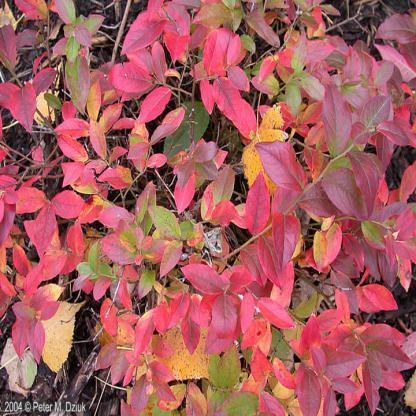Blueberry leaf: (184, 262, 261, 354), (168, 148, 240, 236), (12, 182, 87, 266), (314, 163, 380, 235), (254, 142, 309, 196), (321, 80, 353, 170), (207, 74, 249, 133), (240, 171, 274, 239), (270, 202, 302, 272)
